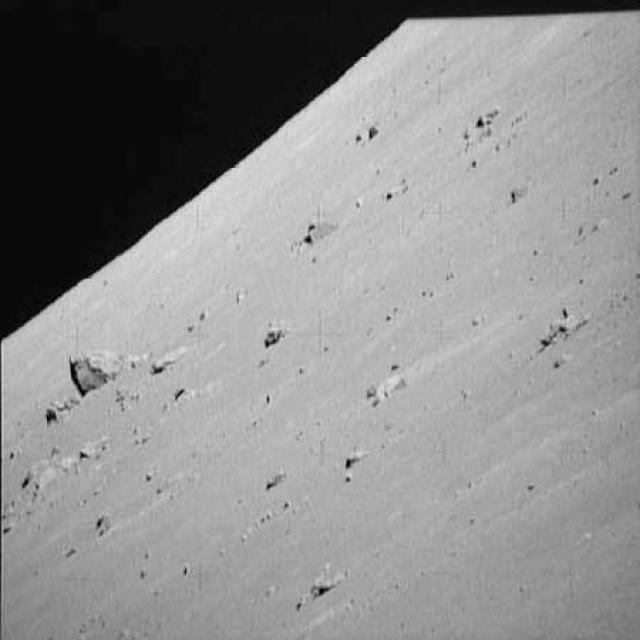rock: (66, 346, 142, 396), (526, 304, 598, 356), (19, 450, 76, 493), (302, 556, 348, 602), (357, 367, 411, 405), (296, 211, 342, 247), (70, 429, 112, 468), (147, 342, 195, 376), (338, 444, 371, 483), (41, 396, 81, 425), (259, 321, 293, 354)
